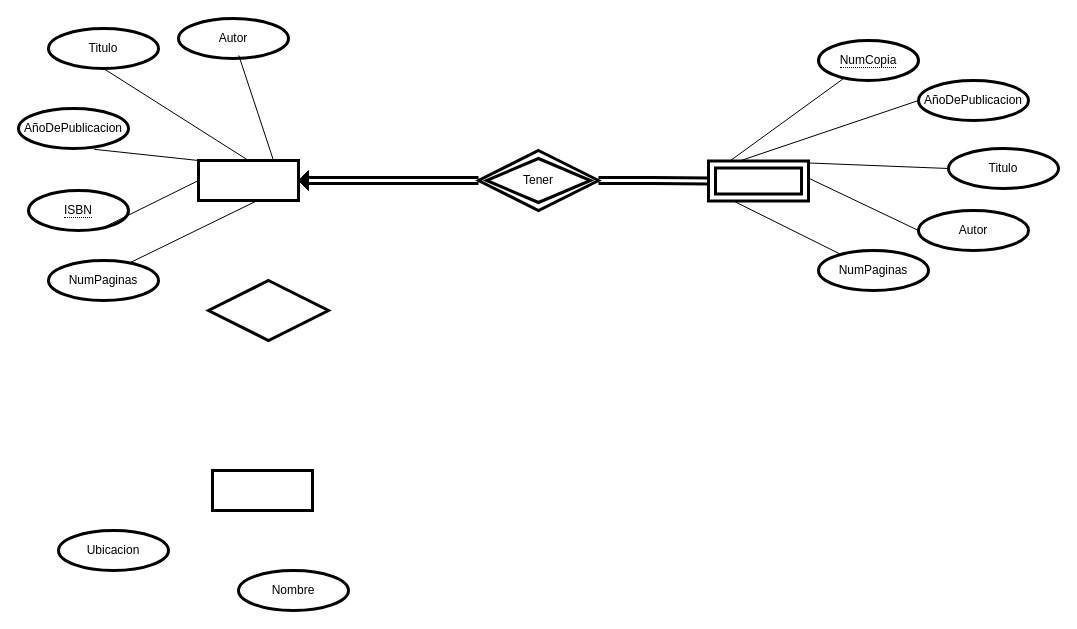
This 1077x629 diagram has some shape labels left out. The box of each missing label's shape, as (x1, y1, x2, y2) in pixels:
Copia: (706, 159, 810, 202)
Editorial: (210, 468, 314, 512)
Libro: (196, 158, 300, 202)
Publicar: (206, 278, 330, 342)
